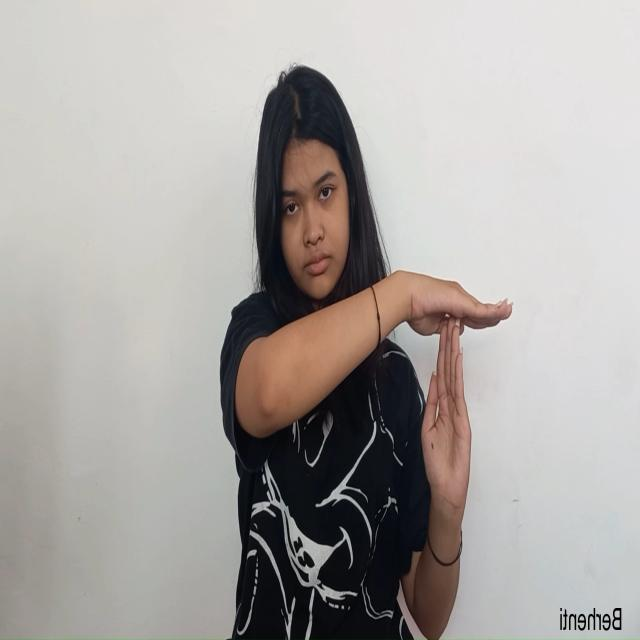Berhenti -BISINDO-: (390, 267, 516, 526)
